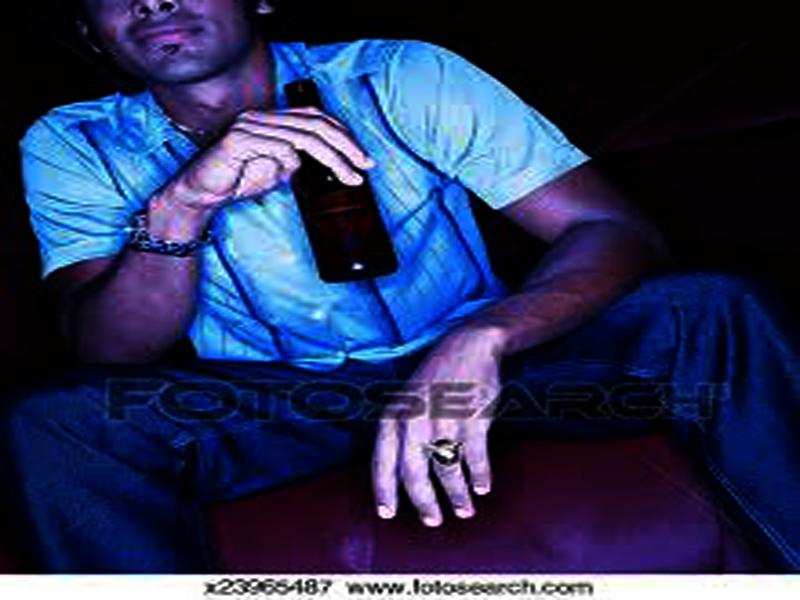Beer: (284, 79, 400, 280)
